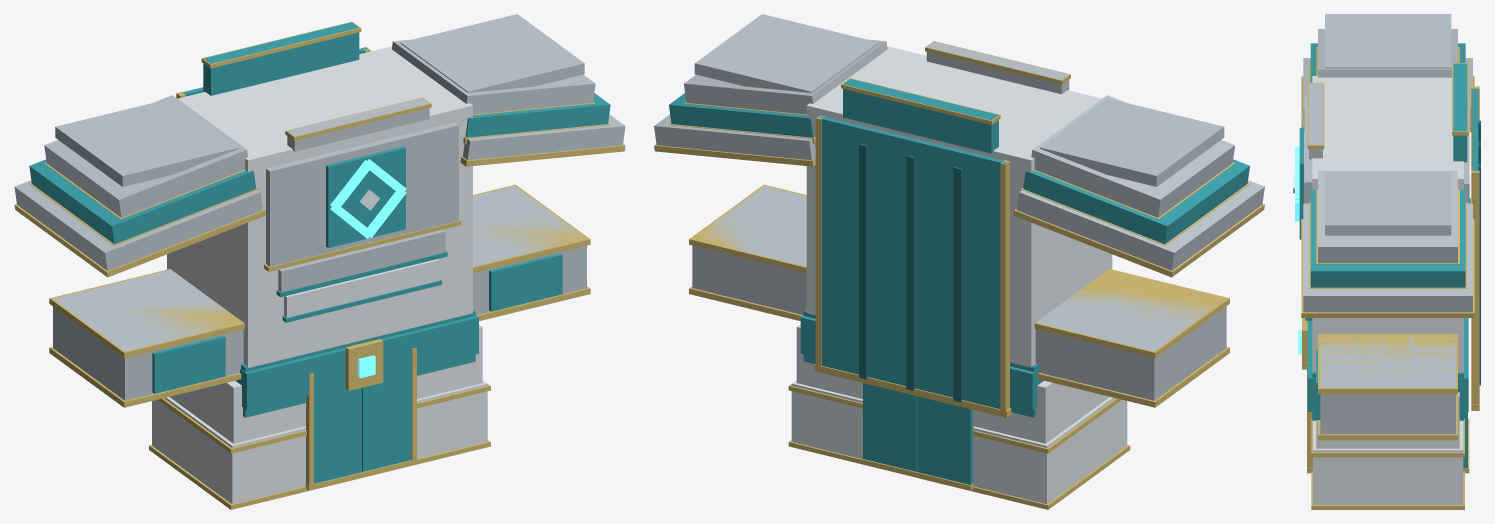
3 renders of one model, left to right at view 1: azimuth 30°, elevation 25°; view 2: azimuth 150°, elevation 25°; view 3: azimuth 270°, elevation 25°, orthographic. The views are drawn at different scales.
Visible parts, largest first — view 1: sage-vestments; view 2: sage-vestments; view 3: sage-vestments.
Part boxes in pixels (box(x1,y1,x2,y2)): sage-vestments: box(14, 14, 625, 509); sage-vestments: box(654, 14, 1264, 509); sage-vestments: box(1293, 14, 1480, 509).
Size of the model in its own units: 1.27 by 0.8814 by 0.425.
